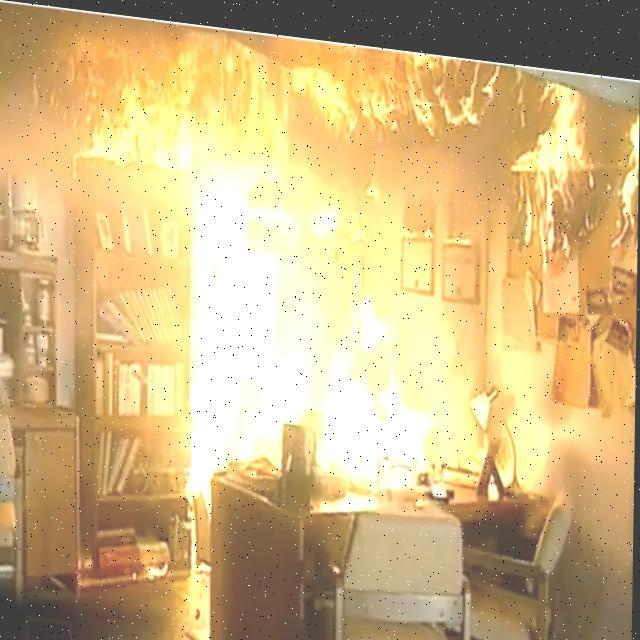Fire: (63, 20, 506, 528), (518, 66, 586, 254), (615, 91, 639, 220)
